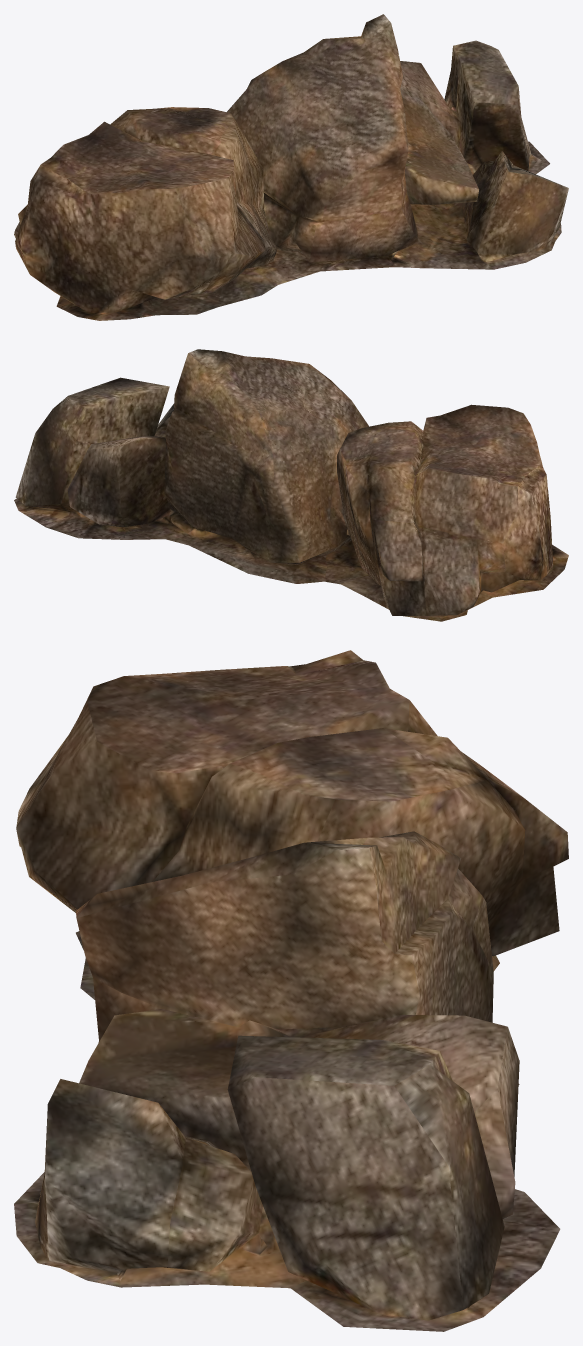
Rendered from slab.glb.
The picture shows the model from 3 angles, top to bottom: view 1: azimuth 30°, elevation 25°; view 2: azimuth 150°, elevation 25°; view 3: azimuth 270°, elevation 25°; orthographic projection. The views are drawn at different scales.
Visible parts, largest first — view 1: boulder_02; view 2: boulder_02; view 3: boulder_02.
Part boxes in pixels (x1,y1,x2,y2): boulder_02: [14, 14, 568, 320]; boulder_02: [14, 349, 568, 621]; boulder_02: [14, 650, 568, 1331].
Size of the model in its own units: 2.51 by 0.8562 by 1.23.
Materials: 1 (1 with a texture image).
